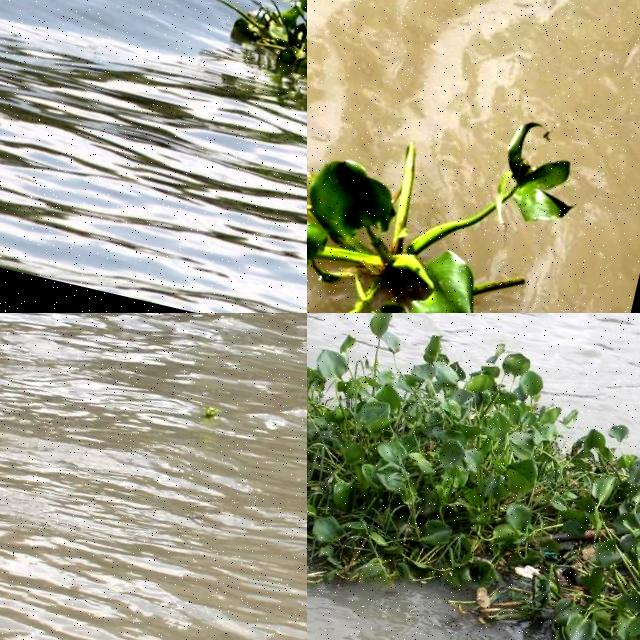water-hyacinth: (308, 314, 640, 640), (308, 115, 579, 314), (234, 1, 308, 108)
